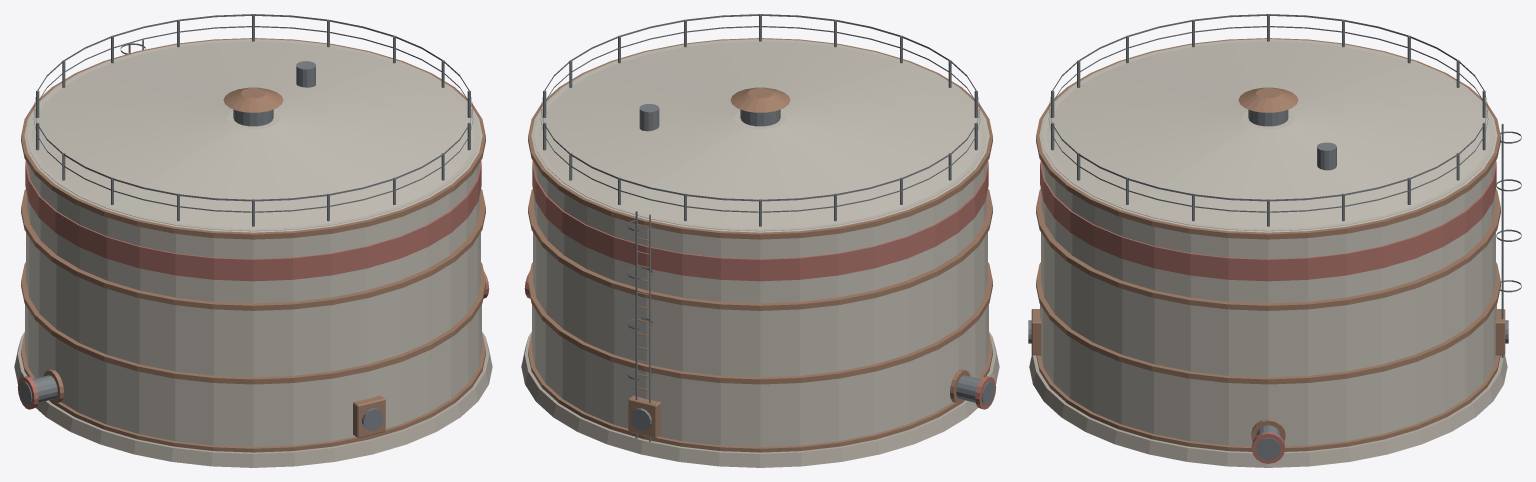
The model's file is oil_tank.glb.
The picture shows the model from 3 angles, left to right: view 1: azimuth 30°, elevation 25°; view 2: azimuth 150°, elevation 25°; view 3: azimuth 270°, elevation 25°; orthographic projection.
Parts seen in each view (by area): view 1: RoofCone, Course2, Course1, Course3, SafetyBand, TankBase, Ring_9.05, Ring_6.22, Ring_3.3, Ring_0.55, RoofRailTop, RoofRailMid (+5 smaller); view 2: RoofCone, Course2, Course1, Course3, SafetyBand, TankBase, Ring_9.05, Ring_6.22, Ring_3.3, Ring_0.55, RoofRailTop, RoofRailMid (+6 smaller); view 3: RoofCone, Course2, Course1, Course3, SafetyBand, TankBase, Ring_9.05, Ring_6.22, Ring_3.3, Ring_0.55, RoofRailTop, RoofRailMid (+5 smaller).
Boxes of the visible parts, box(x1,y1,x2,y2) form: RoofCone: box(24, 39, 482, 232); Course2: box(26, 232, 480, 377); Course1: box(25, 304, 481, 446); Course3: box(27, 39, 479, 303); SafetyBand: box(25, 160, 481, 281); TankBase: box(14, 331, 492, 467); Ring_9.05: box(21, 38, 485, 239); Ring_6.22: box(21, 189, 485, 310); Ring_3.3: box(21, 262, 485, 384); Ring_0.55: box(21, 333, 485, 452); RoofRailTop: box(33, 14, 473, 201); RoofRailMid: box(33, 26, 473, 212); RoofCone: box(531, 39, 989, 232); Course2: box(533, 232, 987, 377); Course1: box(532, 304, 988, 446); Course3: box(534, 39, 986, 303); SafetyBand: box(532, 160, 988, 281); TankBase: box(521, 331, 999, 467); Ring_9.05: box(528, 38, 992, 239); Ring_6.22: box(528, 189, 992, 310); Ring_3.3: box(528, 262, 992, 384); Ring_0.55: box(528, 333, 992, 452); RoofRailTop: box(540, 14, 980, 201); RoofRailMid: box(540, 26, 980, 212); RoofCone: box(1039, 39, 1497, 232); Course2: box(1041, 232, 1495, 377); Course1: box(1040, 304, 1496, 446); Course3: box(1041, 39, 1494, 303); SafetyBand: box(1040, 160, 1496, 281); TankBase: box(1029, 355, 1507, 467); Ring_9.05: box(1036, 38, 1500, 239); Ring_6.22: box(1036, 188, 1500, 310); Ring_3.3: box(1036, 262, 1500, 384); Ring_0.55: box(1036, 355, 1500, 451); RoofRailTop: box(1048, 14, 1488, 201); RoofRailMid: box(1048, 26, 1488, 212).
Size of the model in its own units: 18.95 by 10.86 by 17.75.
